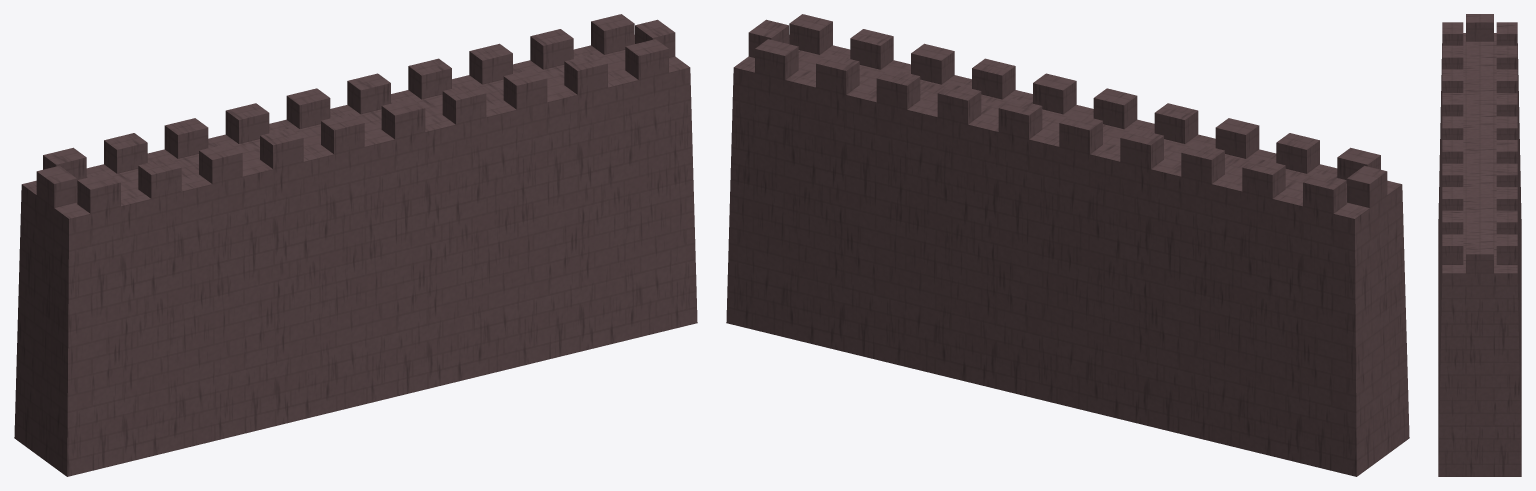
Rendered from SM_Souq_Wall_H32.fbx.
3 renders of one model, left to right at view 1: azimuth 30°, elevation 25°; view 2: azimuth 150°, elevation 25°; view 3: azimuth 270°, elevation 25°, orthographic. The views are drawn at different scales.
Visible parts, largest first — view 1: SM_Souq_Wall_H32; view 2: SM_Souq_Wall_H32; view 3: SM_Souq_Wall_H32.
Boxes of the visible parts, x1,y1,x2,y2 form: SM_Souq_Wall_H32: (14, 14, 697, 476); SM_Souq_Wall_H32: (726, 14, 1409, 476); SM_Souq_Wall_H32: (1438, 14, 1521, 476).
Bounding box in the file's own units: 8.28 × 3.5 × 1.2.
